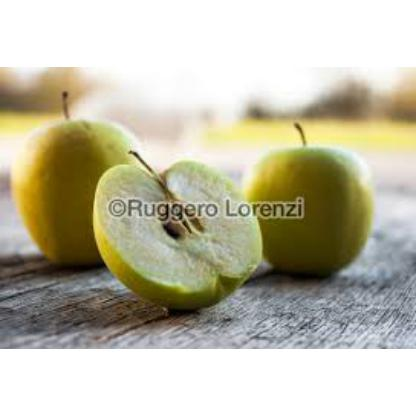apple: (93, 155, 267, 306), (20, 114, 142, 258)
